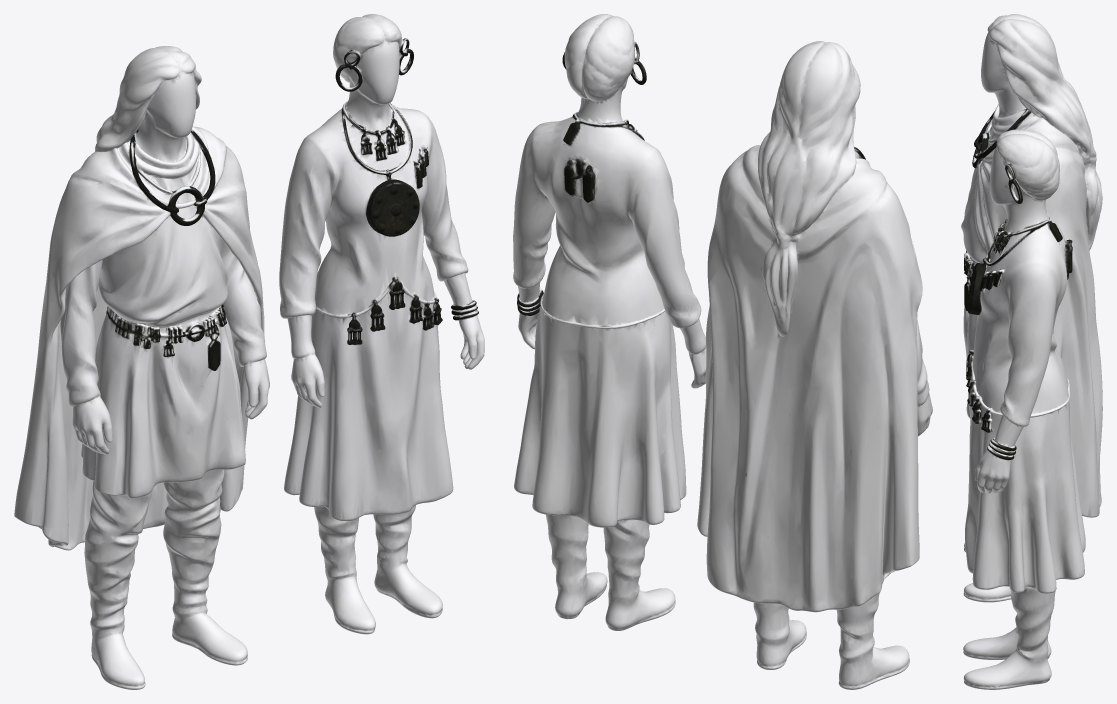
File: glinobitnaya-slavic-figures-v1.glb
The picture shows the model from 3 angles, left to right: view 1: azimuth 30°, elevation 25°; view 2: azimuth 150°, elevation 25°; view 3: azimuth 270°, elevation 25°; orthographic projection. The views are drawn at different scales.
Size of the model in its own units: 1.39 by 1.9 by 0.4379.
1 material, 1 textured.
